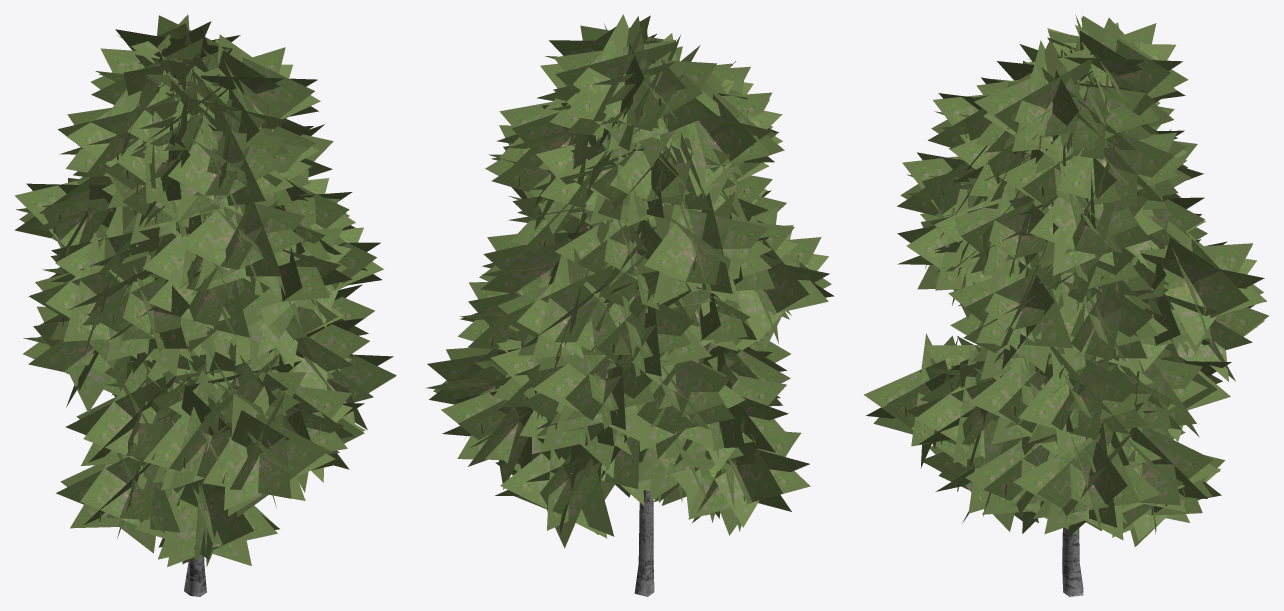
The model's file is Populus_Tremuloides_Spring_Young.glb.
The picture shows the model from 3 angles, left to right: view 1: azimuth 30°, elevation 25°; view 2: azimuth 150°, elevation 25°; view 3: azimuth 270°, elevation 25°; orthographic projection.
Visible parts, largest first — view 1: Populus_Tremuloides_Spring_Young__LOD3; view 2: Populus_Tremuloides_Spring_Young__LOD3; view 3: Populus_Tremuloides_Spring_Young__LOD3.
Part boxes in pixels (bbox=[...]): Populus_Tremuloides_Spring_Young__LOD3: bbox=[14, 14, 396, 596]; Populus_Tremuloides_Spring_Young__LOD3: bbox=[426, 14, 834, 596]; Populus_Tremuloides_Spring_Young__LOD3: bbox=[864, 15, 1268, 596].
Size of the model in its own units: 6.26 by 9.29 by 5.95.
3 materials, 3 textured.
